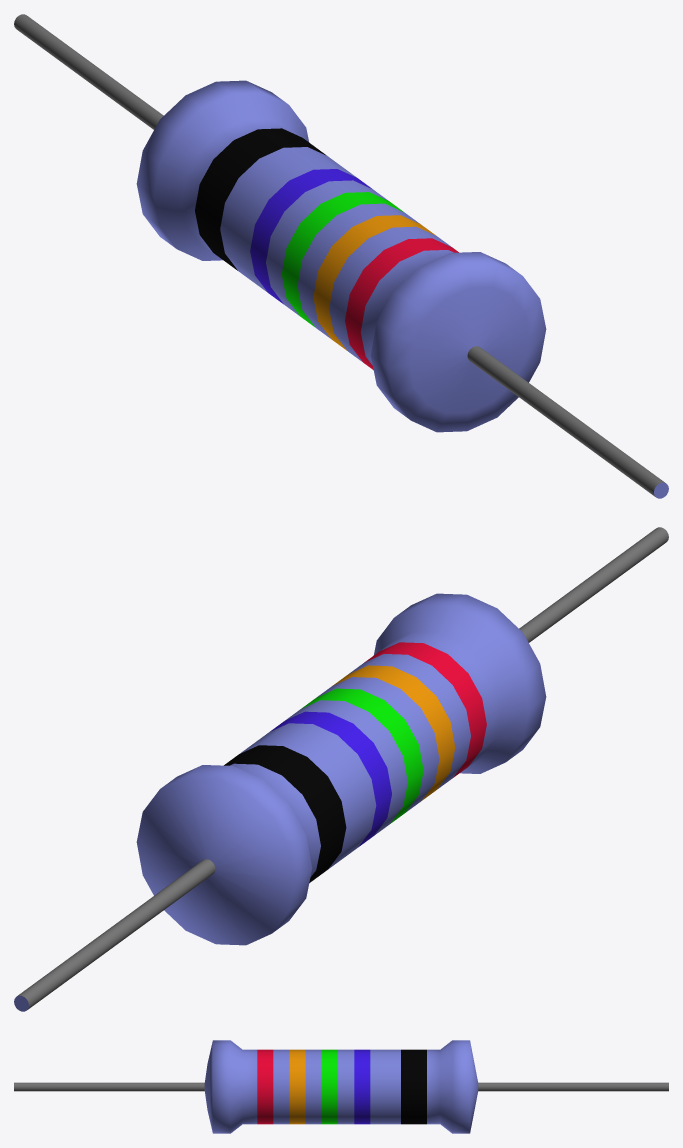
File: Радиокомпоненты low.fbx
3 renders of one model, top to bottom at view 1: azimuth 30°, elevation 25°; view 2: azimuth 150°, elevation 25°; view 3: azimuth 270°, elevation 25°, orthographic. The views are drawn at different scales.
Parts seen in each view (by area): view 1: 5W_low, 2W_low; view 2: 5W_low, 2W_low; view 3: 5W_low, 2W_low.
Part boxes in pixels (box(x1,y1,x2,y2)): 5W_low: box(136, 80, 668, 496); 2W_low: box(14, 14, 668, 498); 5W_low: box(16, 593, 546, 1010); 2W_low: box(14, 527, 668, 1011); 5W_low: box(204, 1040, 478, 1133); 2W_low: box(14, 1082, 668, 1091).
Size of the model in its own units: 0.0085 by 0.0085 by 0.0595.
